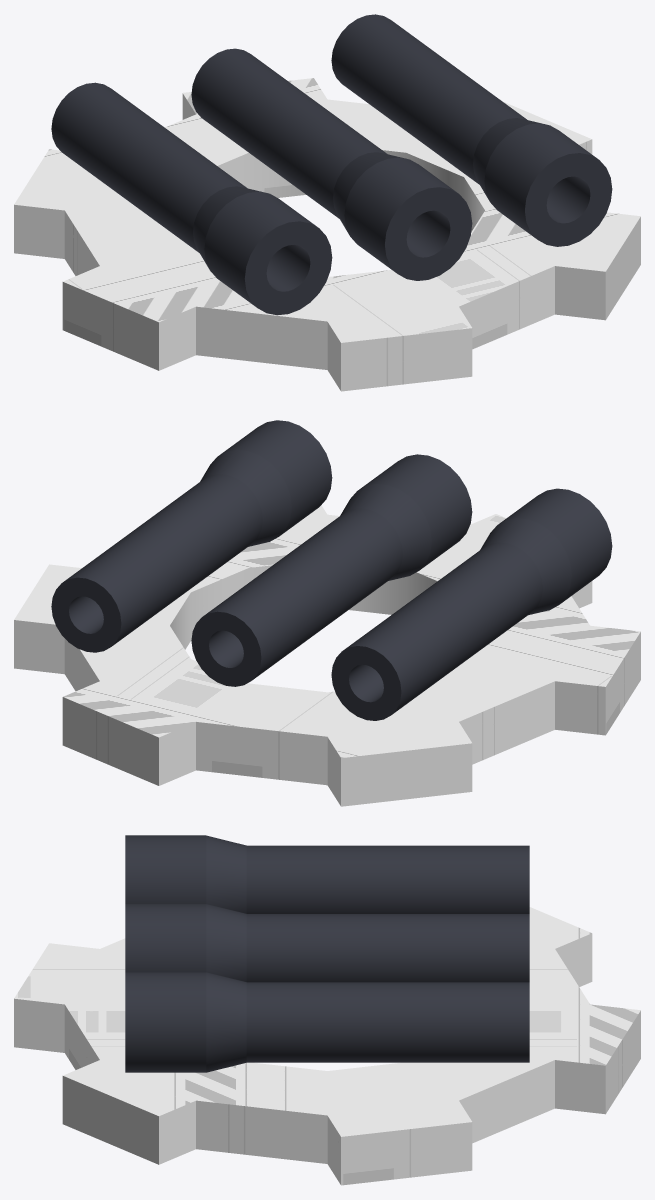
Rendered from multishot_collectable.obj.
3 renders of one model, top to bottom at view 1: azimuth 30°, elevation 25°; view 2: azimuth 150°, elevation 25°; view 3: azimuth 270°, elevation 25°, orthographic.
Visible parts, largest first — view 1: mergedBlocks; view 2: mergedBlocks; view 3: mergedBlocks.
Boxes of the visible parts, x1=… form: mergedBlocks: x1=14, y1=14, x2=640, y2=391; mergedBlocks: x1=14, y1=420, x2=640, y2=806; mergedBlocks: x1=14, y1=835, x2=640, y2=1185.
Bounding box in the file's own units: 1.55 × 0.395 × 1.55.
2 materials, 1 textured.
